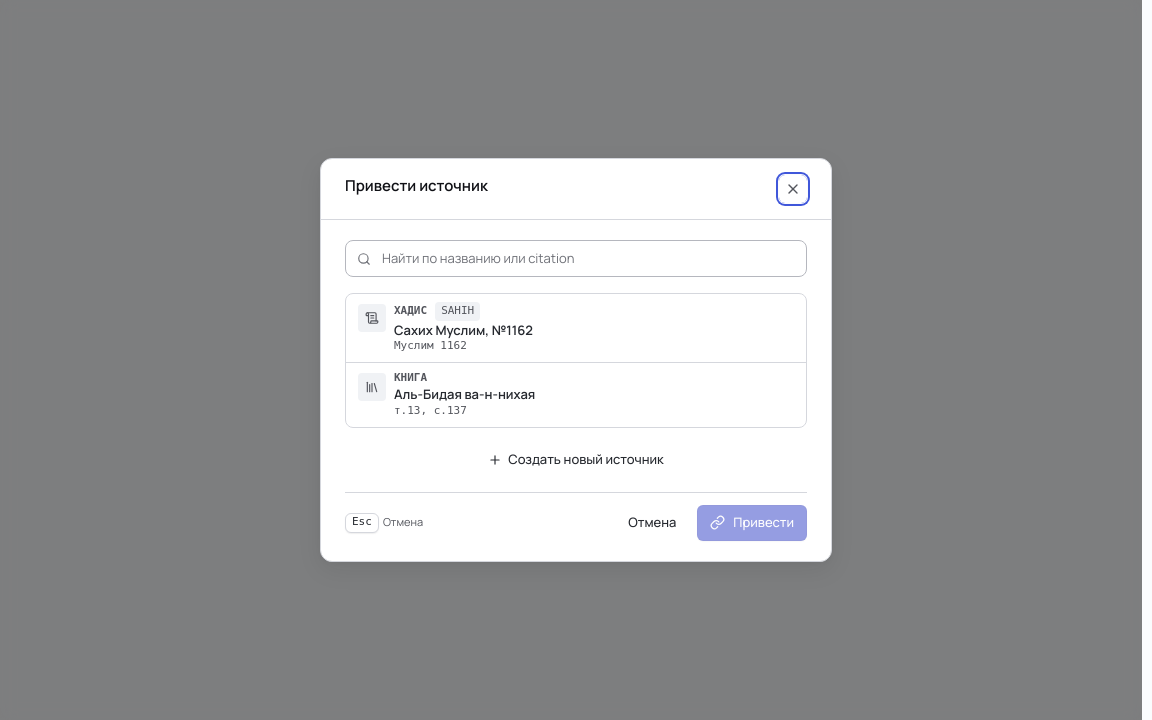
AddSourceModal › после выбора показывает inputs quote/context, кнопка "Привязать" enabled
Click the option "хадис SAHIH Сахих Муслим, №1162 Муслим 1162" at (411, 310), box [346,294,806,362]
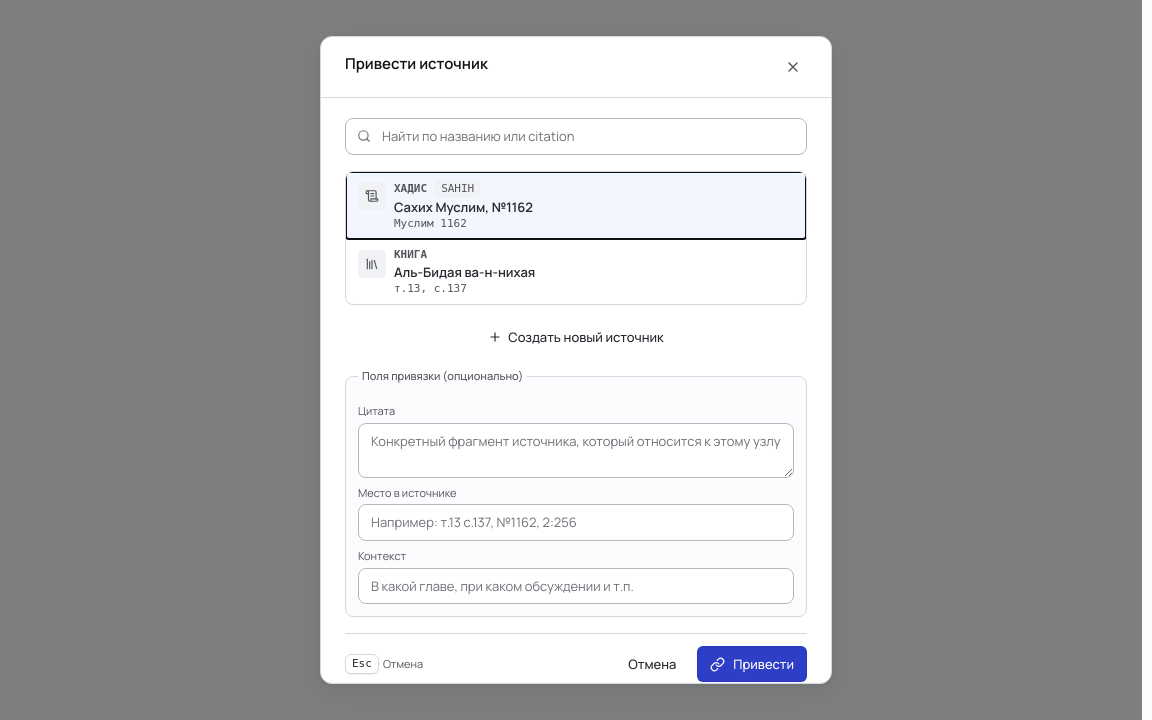
Now the text box labelled "Цитата" is shown, box [358,423,794,478]
Now the field labelled "Контекст" is shown, box [358,568,794,604]
Now the button "Привести" is enabled, box [697,646,807,682]
